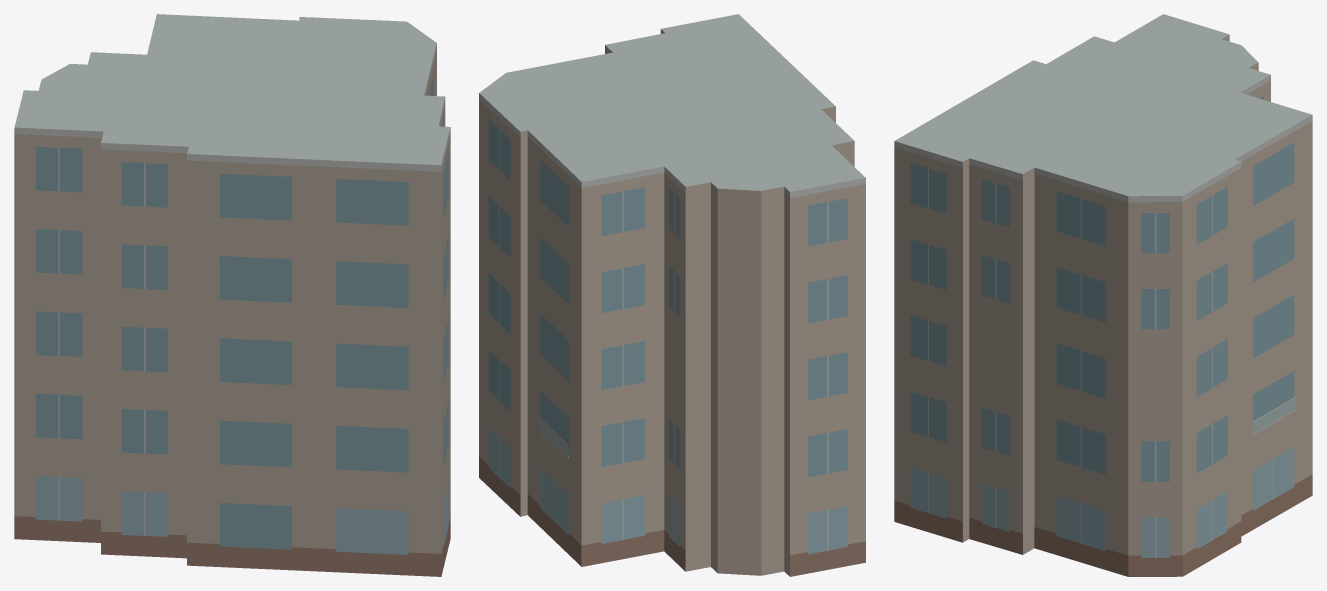
File: survey-upis-32575216.glb
3 renders of one model, left to right at view 1: azimuth 30°, elevation 25°; view 2: azimuth 150°, elevation 25°; view 3: azimuth 270°, elevation 25°, orthographic. The views are drawn at different scales.
Parts seen in each view (by area): view 1: survey-upis-32575216.tmp; view 2: survey-upis-32575216.tmp; view 3: survey-upis-32575216.tmp.
Part boxes in pixels (box(x1,y1,x2,y2)): survey-upis-32575216.tmp: box(14, 14, 450, 576); survey-upis-32575216.tmp: box(479, 14, 865, 576); survey-upis-32575216.tmp: box(894, 14, 1312, 576).
Size of the model in its own units: 15.71 by 15.3 by 15.24.
